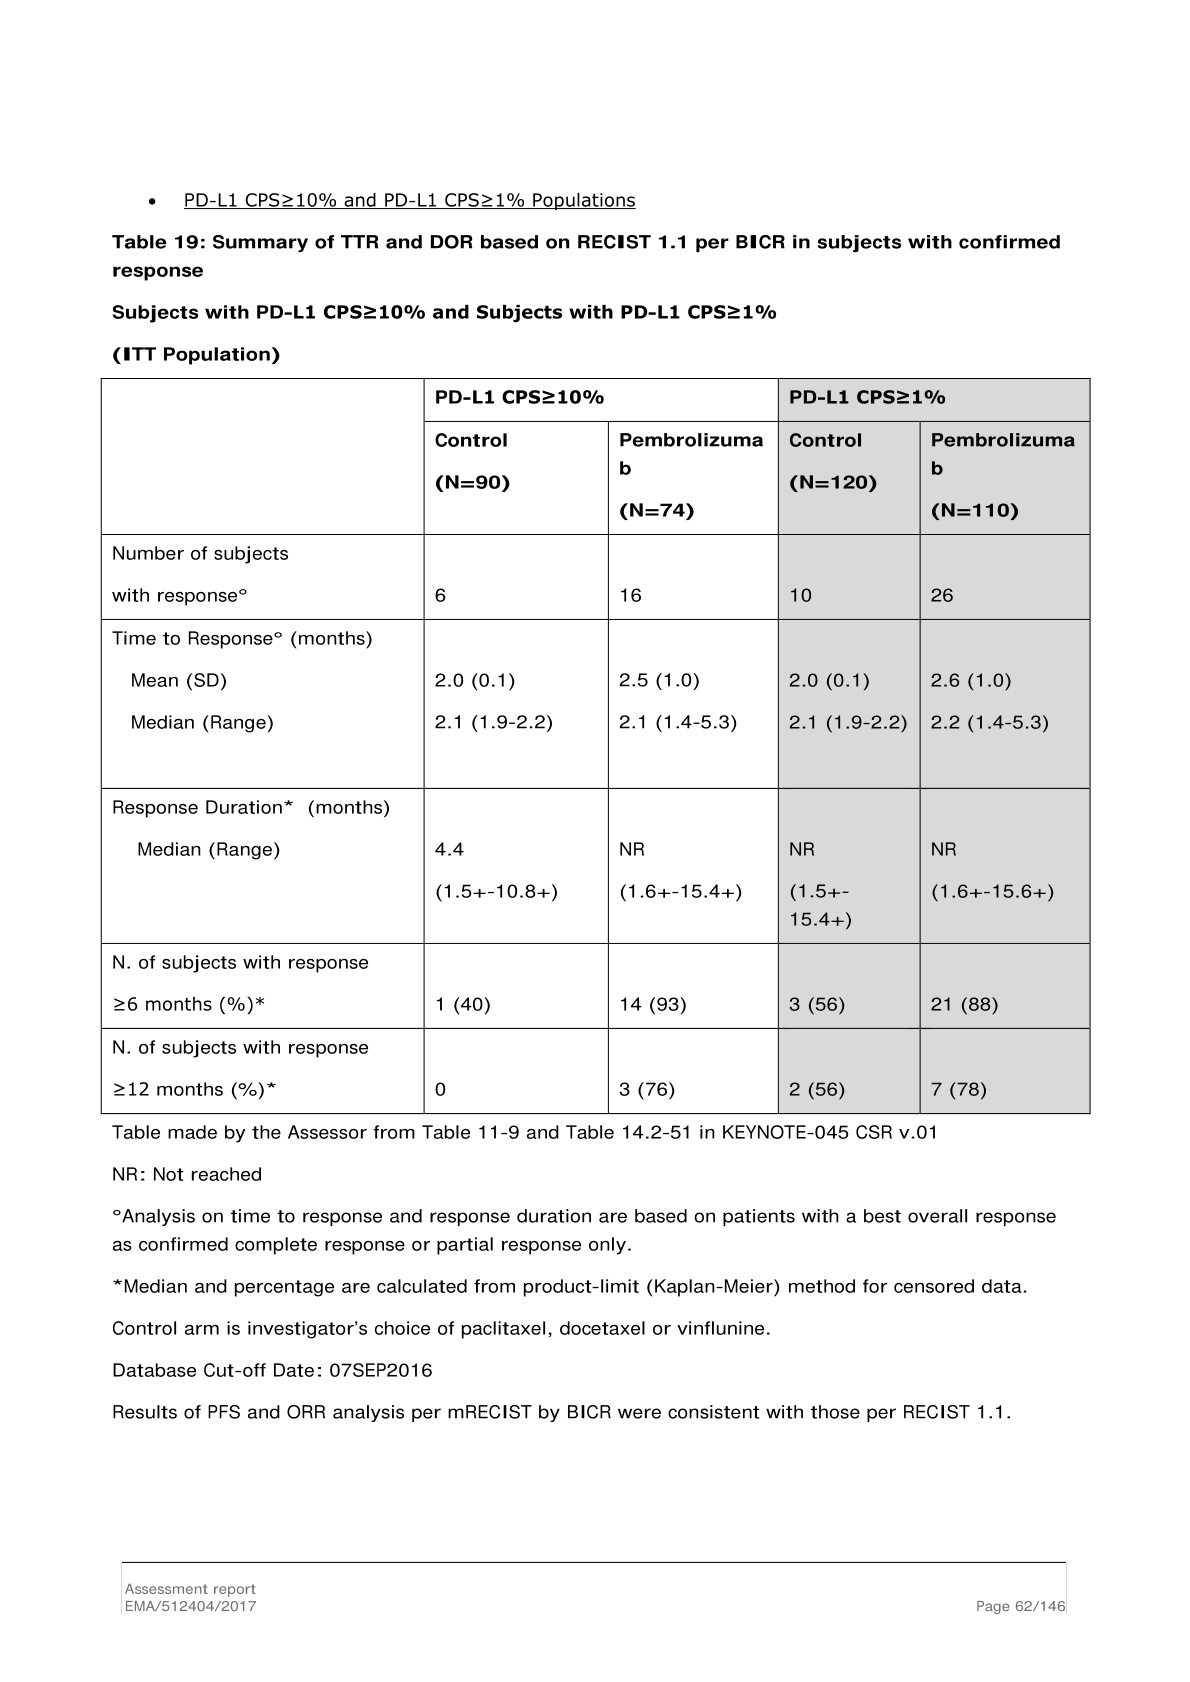merged_cells: (100, 376, 1093, 1115)
